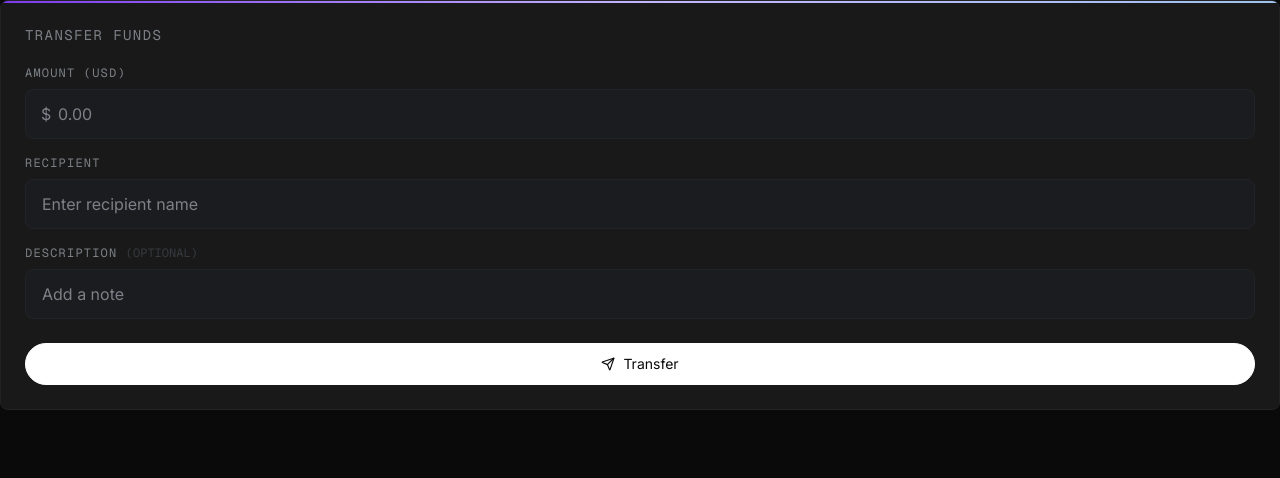
it: TransferForm › clears error messages when user starts typing in errored field
The width and height of the screenshot is (1280, 478).
Note: Submit empty to trigger errors
Click the button "Transfer". click: (640, 364)
box: [25,343,1255,385]
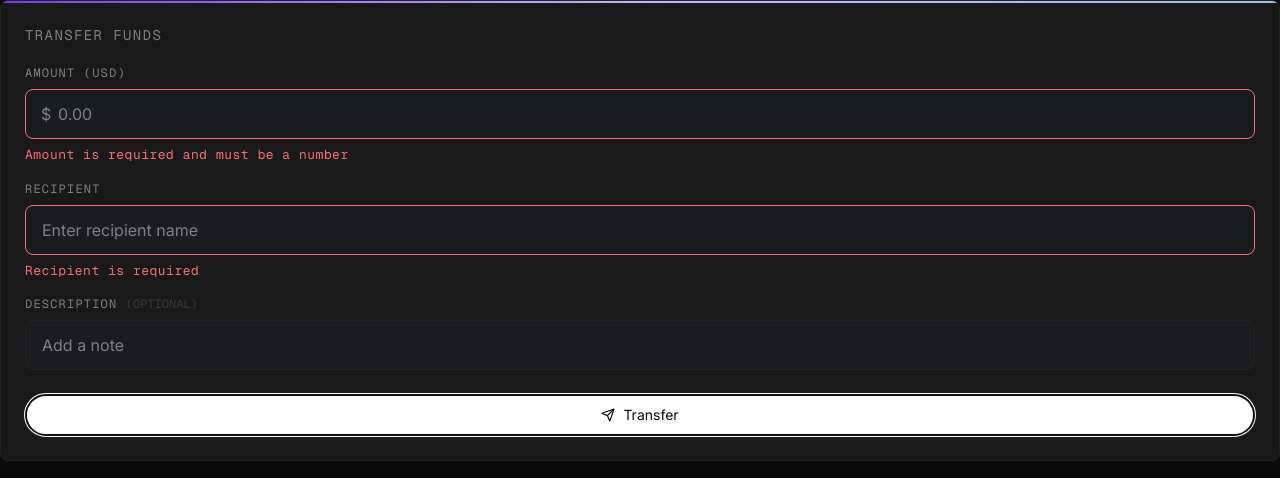
Note: Start typing in amount — amount error should clear
Type "1" into the number field labelled "AMOUNT (USD)". click: (640, 114)
box: [25,89,1255,139]
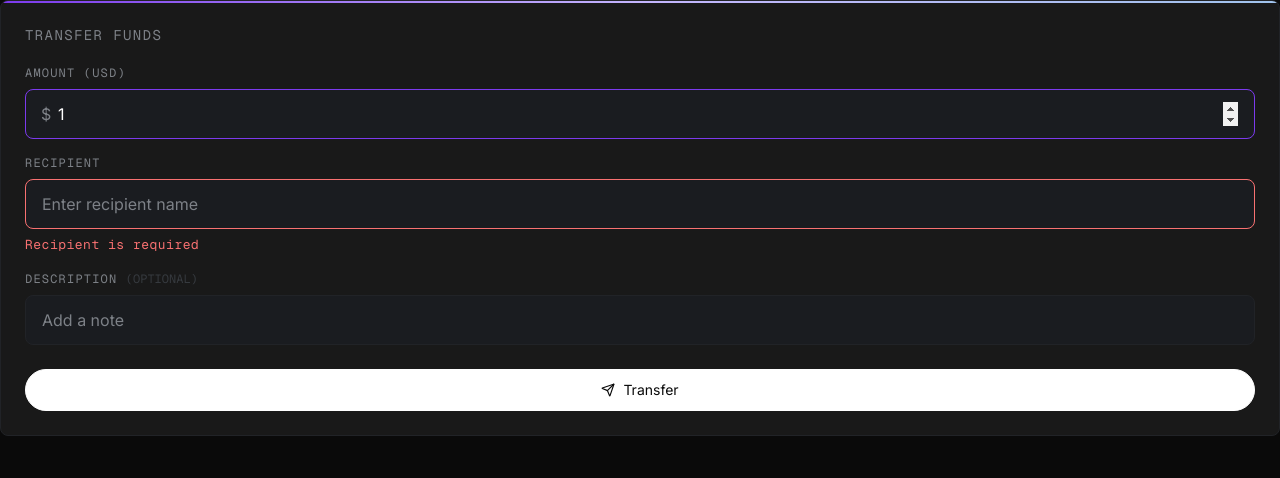
Expected: the text "Amount is required" is gone
